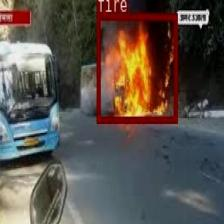fire: (96, 13, 176, 122)
